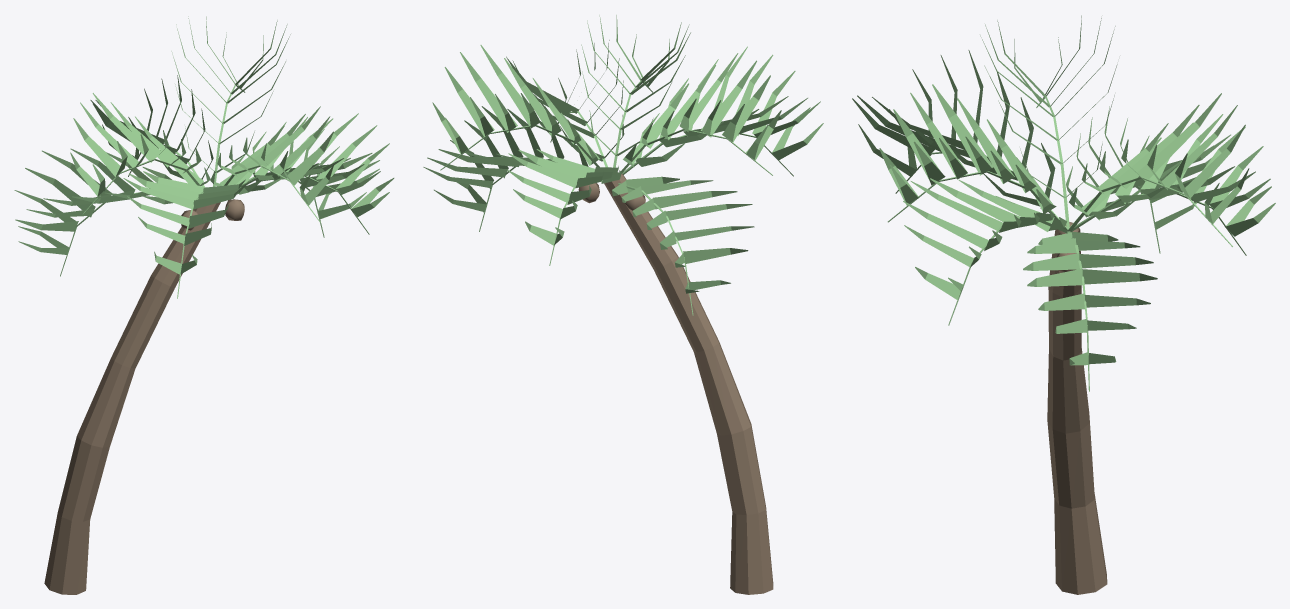
File: palm_leaning.glb
3 renders of one model, left to right at view 1: azimuth 30°, elevation 25°; view 2: azimuth 150°, elevation 25°; view 3: azimuth 270°, elevation 25°, orthographic. The views are drawn at different scales.
Parts seen in each view (by area): view 1: palm-leaning; view 2: palm-leaning; view 3: palm-leaning.
Boxes of the visible parts, x1,y1,x2,y2 form: palm-leaning: (14,16,394,594); palm-leaning: (423,15,823,594); palm-leaning: (852,15,1275,594).
Size of the model in its own units: 3.24 by 4.56 by 2.96.
